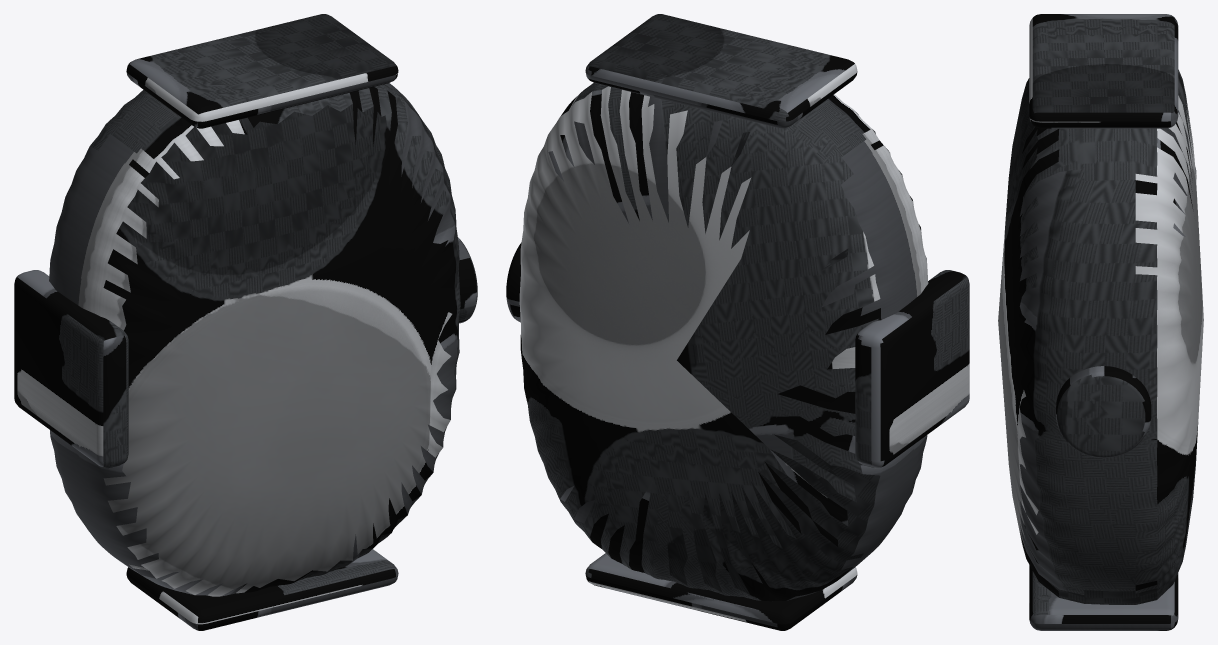
File: waist.obj
The picture shows the model from 3 angles, left to right: view 1: azimuth 30°, elevation 25°; view 2: azimuth 150°, elevation 25°; view 3: azimuth 270°, elevation 25°; orthographic projection.
Parts seen in each view (by area): view 1: waist; view 2: waist; view 3: waist.
Boxes of the visible parts, <box> form: waist: <box>14,14,477,630</box>; waist: <box>506,14,969,630</box>; waist: <box>998,14,1203,630</box>.
Bounding box in the file's own units: 0.155 × 0.194 × 0.069.
Materials: 1 (1 with a texture image).
